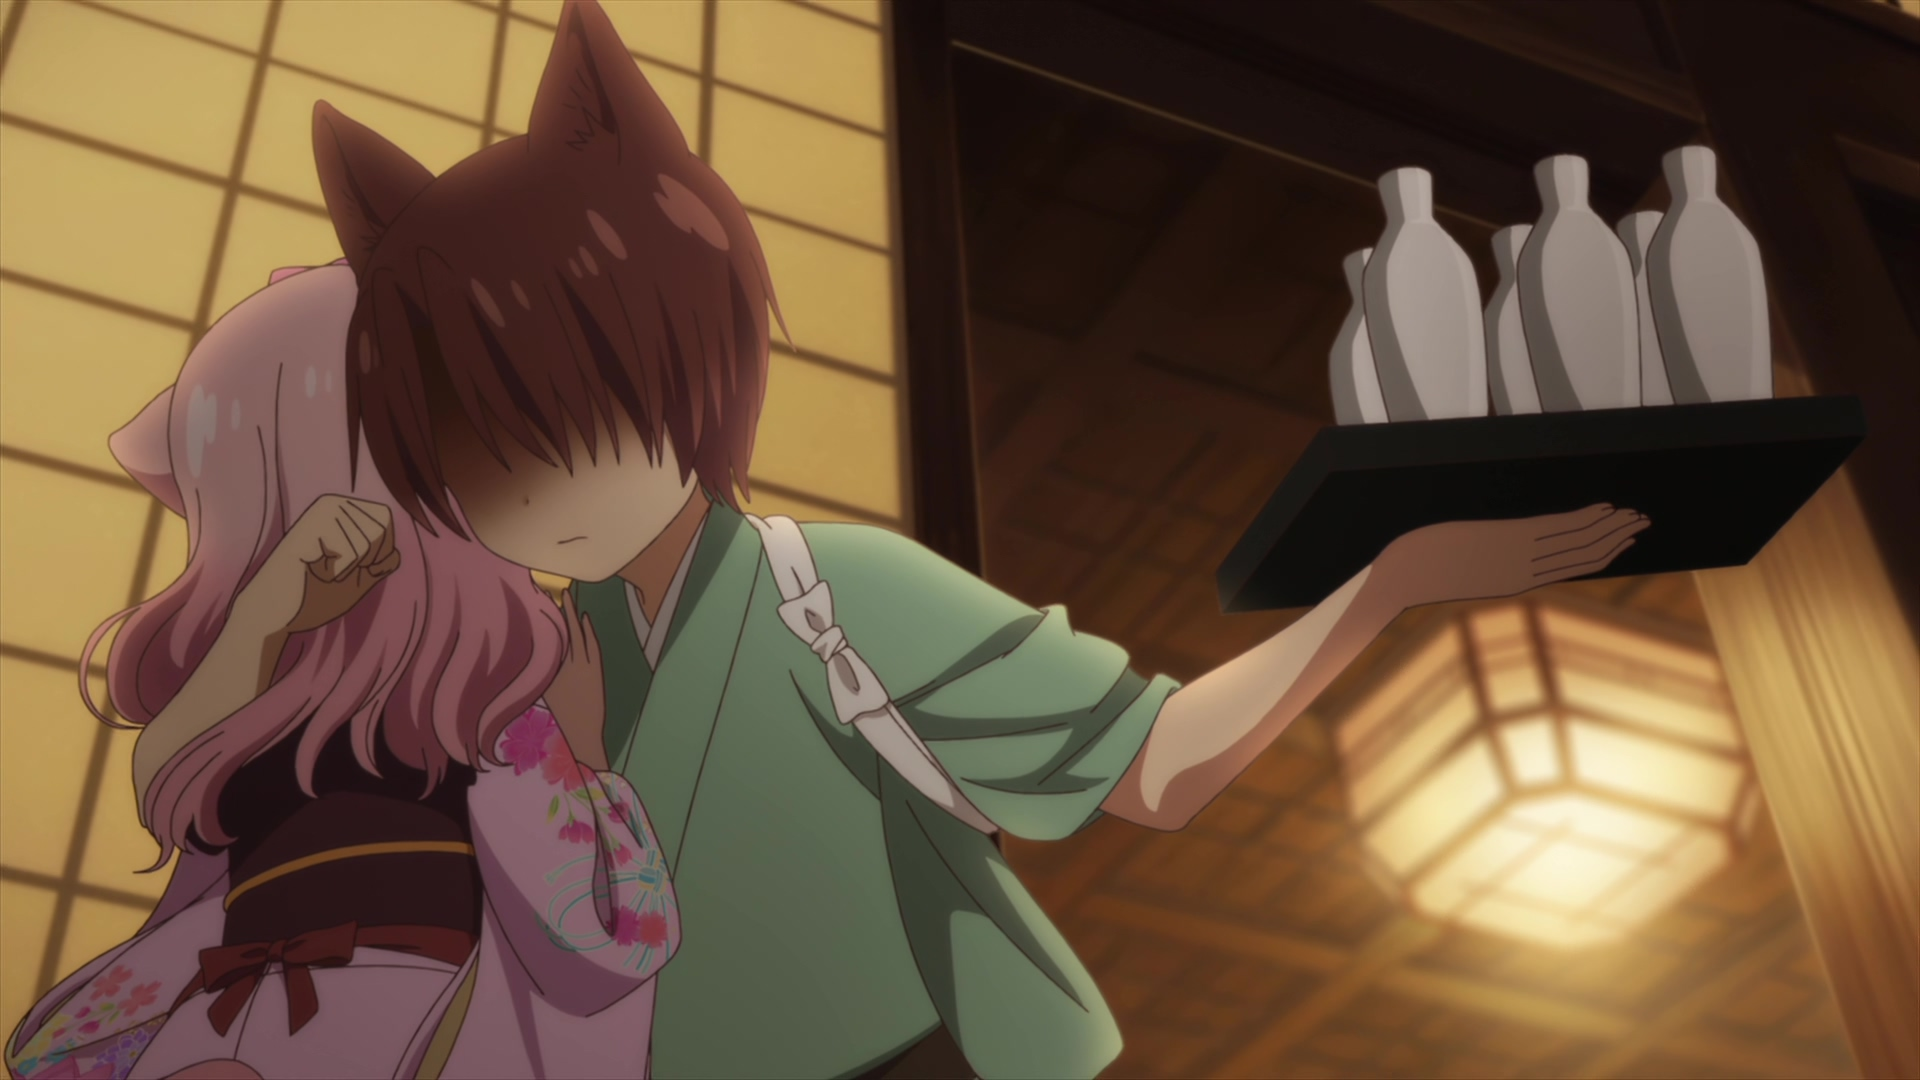枣: (314, 1, 1838, 1080)
莲: (1, 258, 675, 1080)
